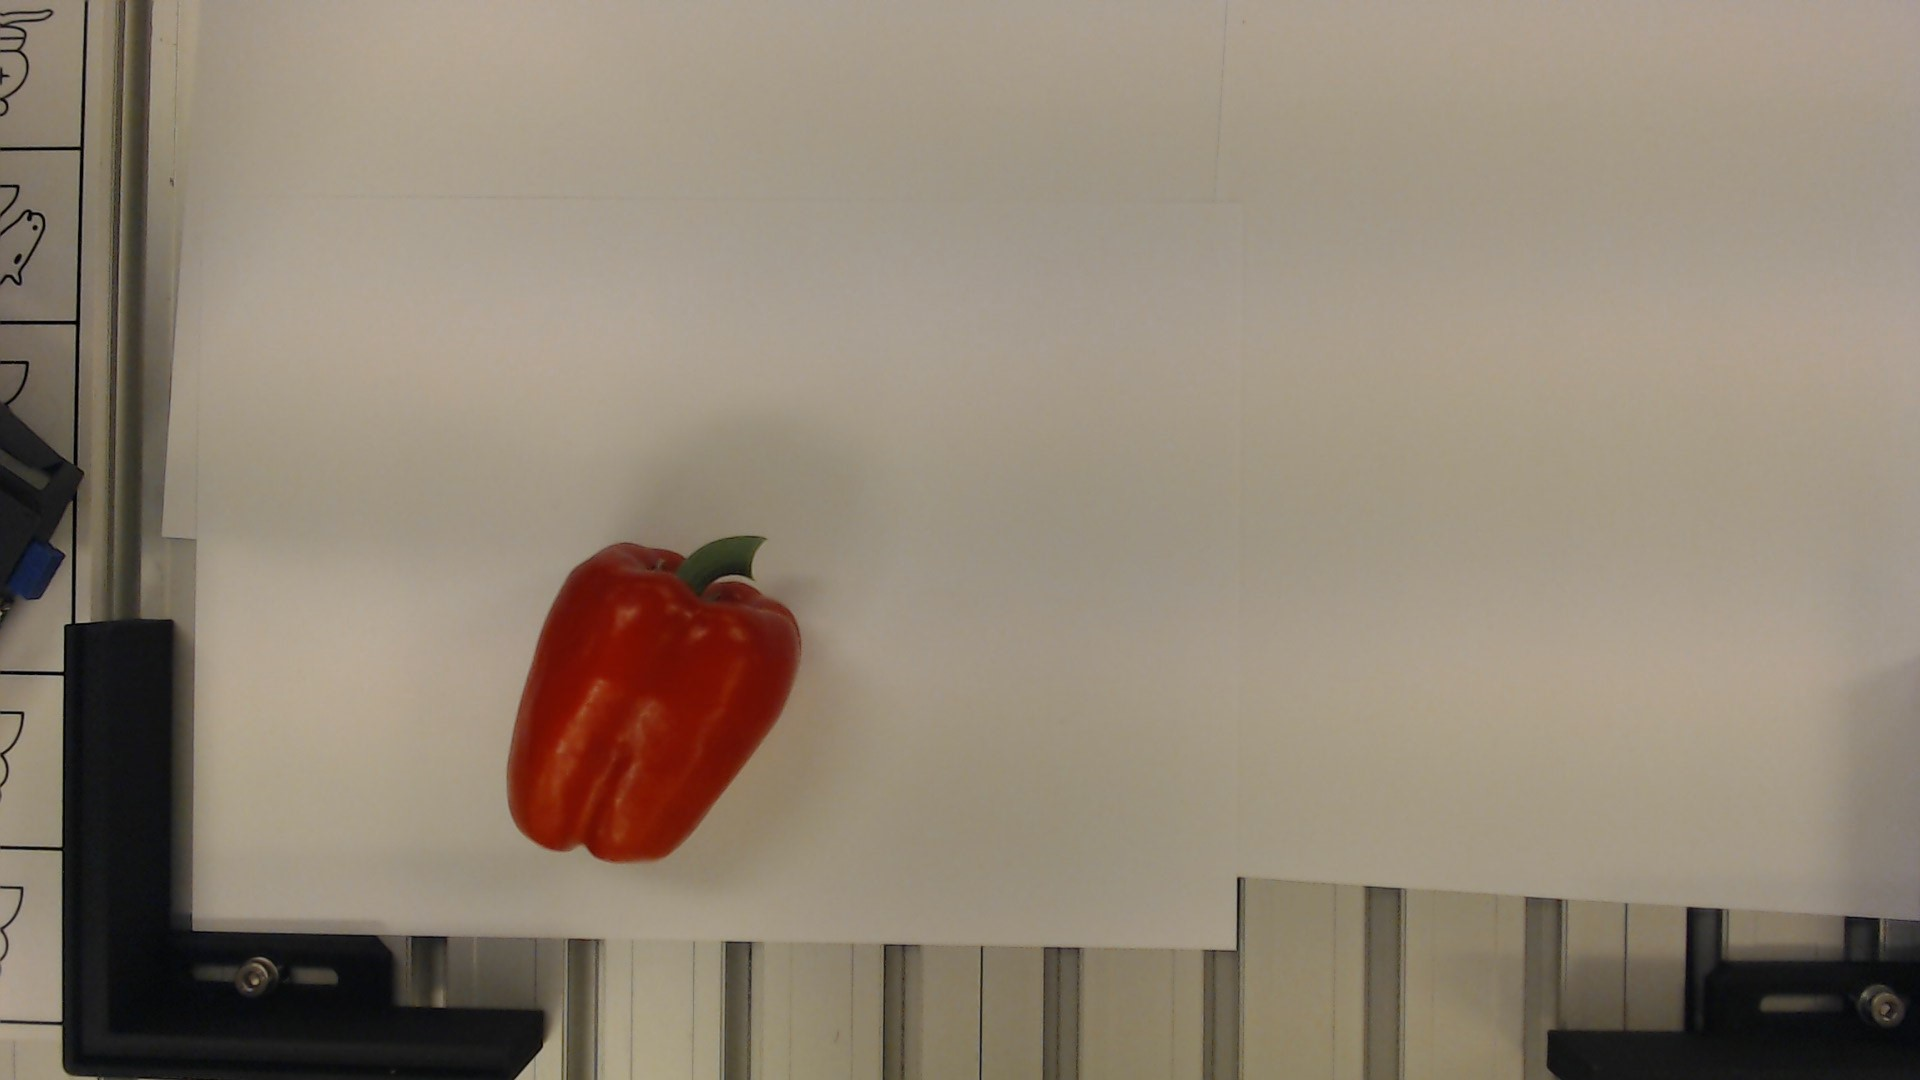Red Bell Pepper: (514, 512, 804, 874)
